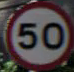Speed limit: (7, 4, 68, 63)
